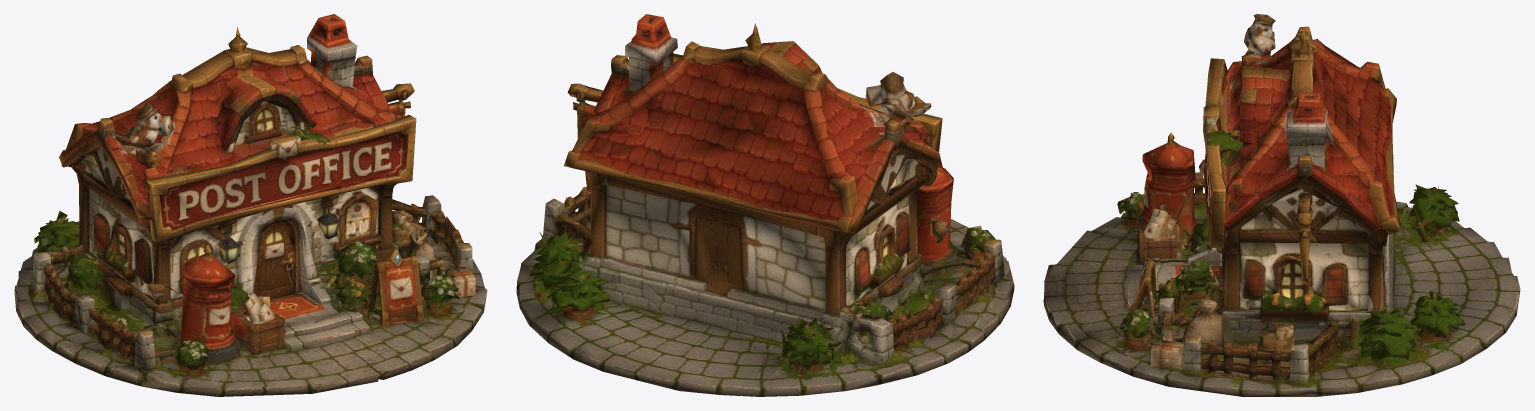
Rendered from post-office.glb.
3 views of the same model, side by side, from view 1: azimuth 30°, elevation 25°; view 2: azimuth 150°, elevation 25°; view 3: azimuth 270°, elevation 25° (orthographic). The views are drawn at different scales.
Visible parts, largest first — view 1: Mesh1.0; view 2: Mesh1.0; view 3: Mesh1.0.
Boxes of the visible parts, x1,y1,x2,y2 form: Mesh1.0: [14, 14, 487, 396]; Mesh1.0: [516, 14, 1014, 396]; Mesh1.0: [1043, 14, 1520, 396].
Size of the model in its own units: 1.89 by 1.17 by 1.89.
1 material, 1 textured.
